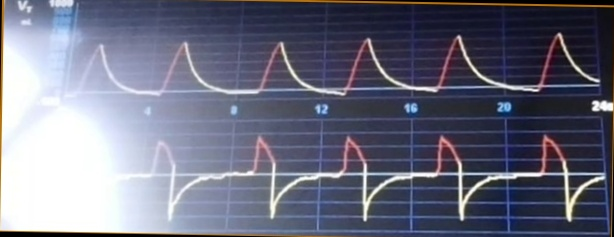Normal Flow: (112, 131, 605, 224)
Normal Volume: (70, 29, 600, 96)
